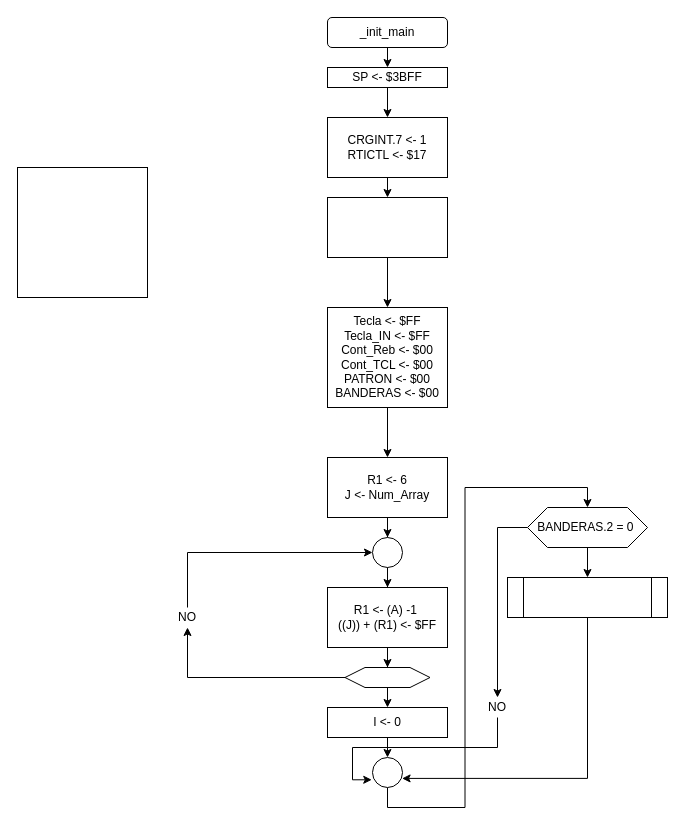
This 685x833 diagram has some shape labels left out. The box of each missing label's shape, as (x1, y1, x2, y2) in pixels:
C - carry K. - Y J - X R1 - A R2 - B RR1 - D: (16, 166, 148, 298)
DDRH.0 <- 0 PIEH.0 <- 1 DDRA <- $F0 PUCR <- 1: (326, 196, 448, 258)
R1 = 0: (344, 666, 430, 688)
TAREA_TECLADO: (506, 576, 668, 618)
